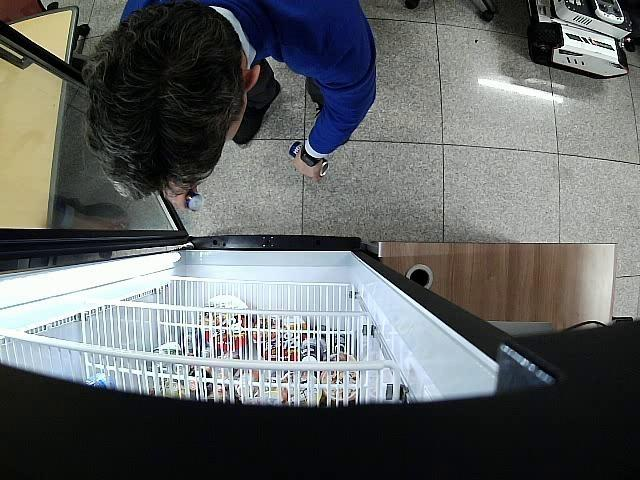16_hot6: (288, 141, 328, 177), (183, 190, 202, 213)
